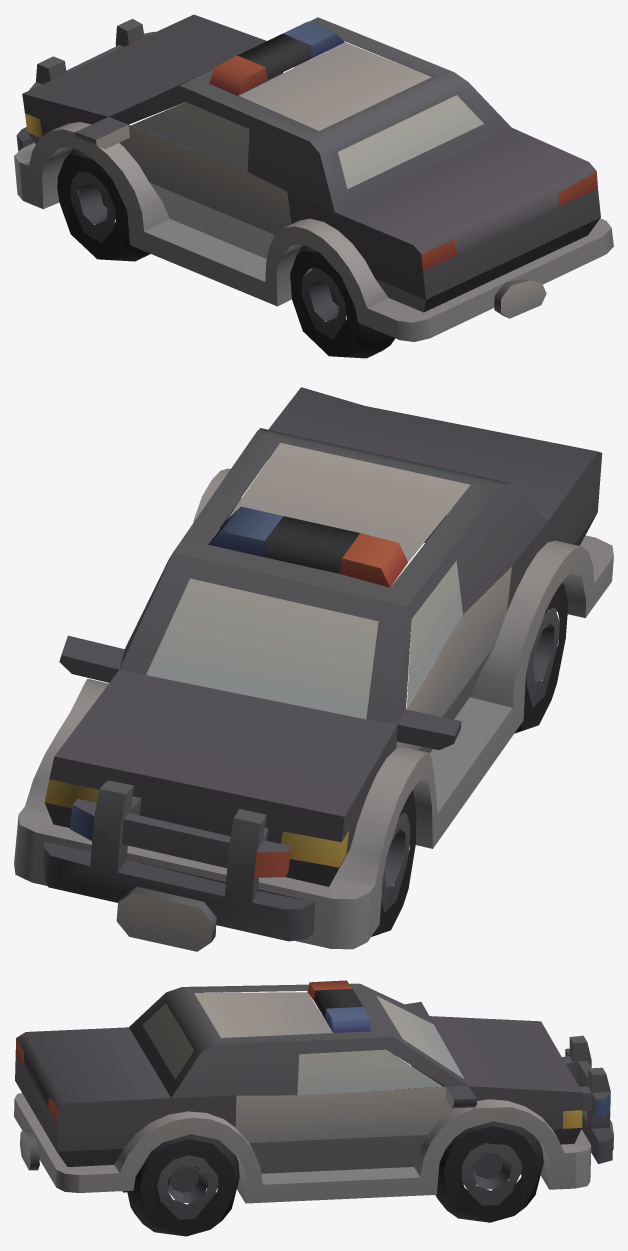
The model's file is wreck_police.glb.
3 views of the same model, one above another, from view 1: azimuth 30°, elevation 25°; view 2: azimuth 150°, elevation 25°; view 3: azimuth 270°, elevation 25° (orthographic). The views are drawn at different scales.
Parts seen in each view (by area): view 1: body_mesh; view 2: body_mesh; view 3: body_mesh.
Boxes of the visible parts, x1,y1,x2,y2 form: body_mesh: (14,14,613,358); body_mesh: (14,387,613,951); body_mesh: (14,980,613,1236).
Bounding box in the file's own units: 2.29 × 1.48 × 3.94.
1 material, 1 textured.
